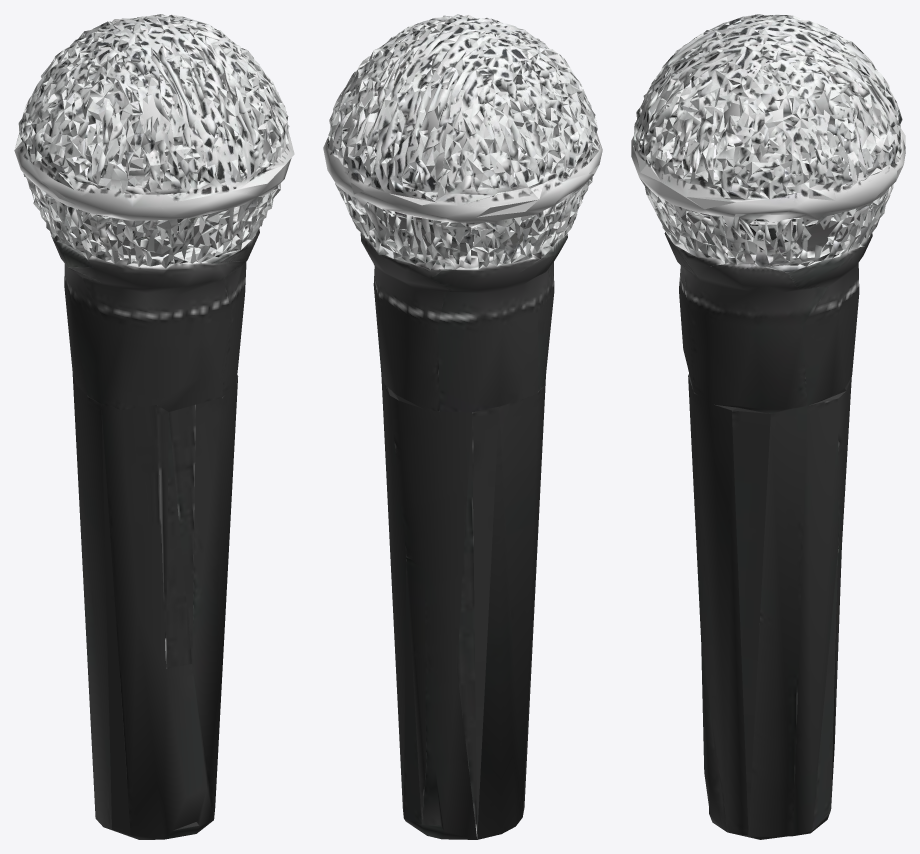
File: shure-sm58.glb
3 views of the same model, side by side, from view 1: azimuth 30°, elevation 25°; view 2: azimuth 150°, elevation 25°; view 3: azimuth 270°, elevation 25° (orthographic).
Parts seen in each view (by area): view 1: shure-sm58-body; view 2: shure-sm58-body; view 3: shure-sm58-body.
Boxes of the visible parts, x1,y1,x2,y2 form: shure-sm58-body: (14, 14, 294, 839); shure-sm58-body: (323, 14, 602, 839); shure-sm58-body: (631, 14, 905, 839).
Size of the model in its own units: 0.051 by 0.162 by 0.051.
Materials: 1 (1 with a texture image).
